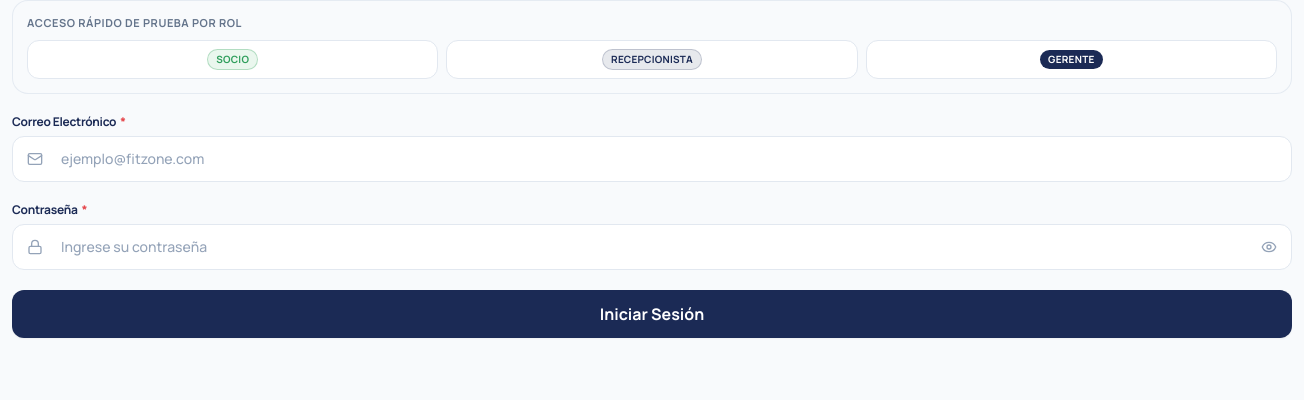
Scenario: SCRUM-89: LoginForm Component › muestra errores de validación si se envía el formulario vacío
The width and height of the screenshot is (1304, 400).
Step 1. Click the button "Iniciar Sesión" → (652, 314), box [12,290,1292,338]
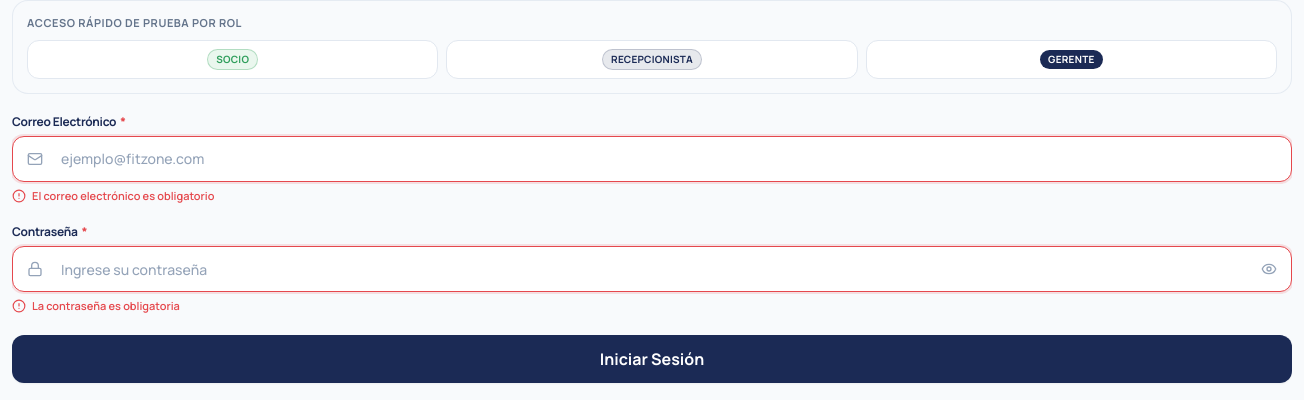
Expected: the text "El correo electrónico es obligatorio" is shown, [32,188,214,204]
Expected: the text "La contraseña es obligatoria" is shown, [32,298,180,314]
